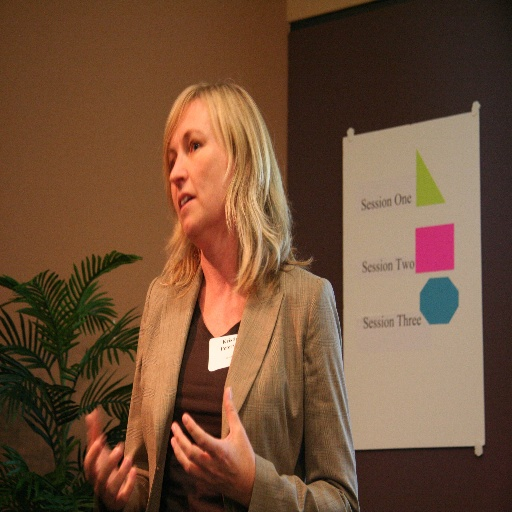hand: (167, 381, 254, 500), (81, 412, 136, 511)
